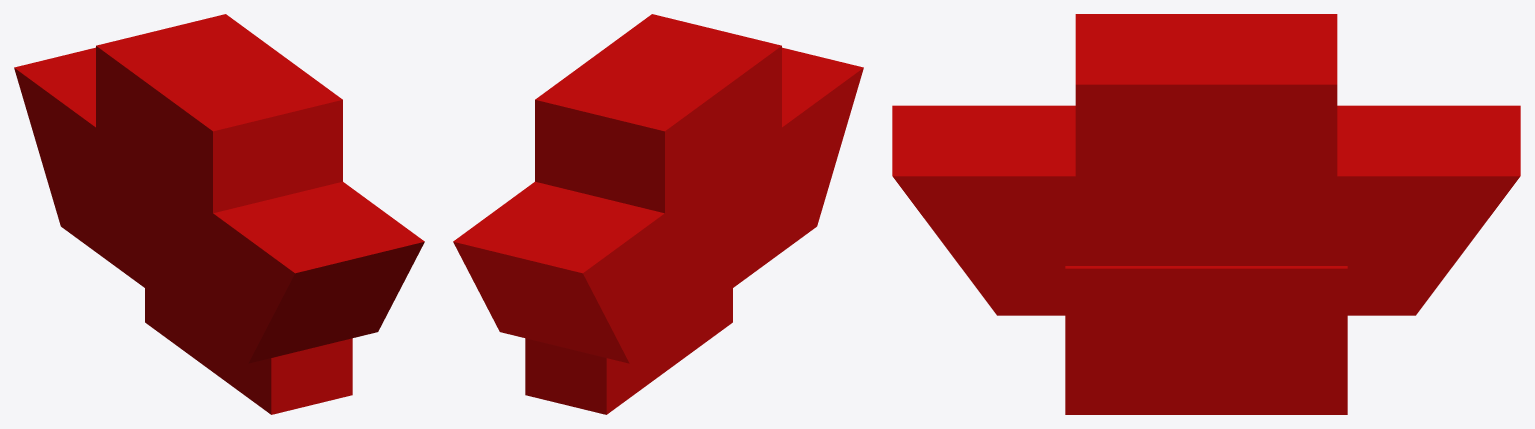
File: talos_trunk_lower_large.dae
3 renders of one model, left to right at view 1: azimuth 30°, elevation 25°; view 2: azimuth 150°, elevation 25°; view 3: azimuth 270°, elevation 25°, orthographic. The views are drawn at different scales.
Visible parts, largest first — view 1: Talos_Trunk_Lower_Large; view 2: Talos_Trunk_Lower_Large; view 3: Talos_Trunk_Lower_Large.
Part boxes in pixels (x1,y1,x2,y2): Talos_Trunk_Lower_Large: (14, 14, 424, 414); Talos_Trunk_Lower_Large: (453, 14, 863, 414); Talos_Trunk_Lower_Large: (892, 14, 1520, 414).
Size of the model in its own units: 0.3321 by 1.2 by 0.6904.
